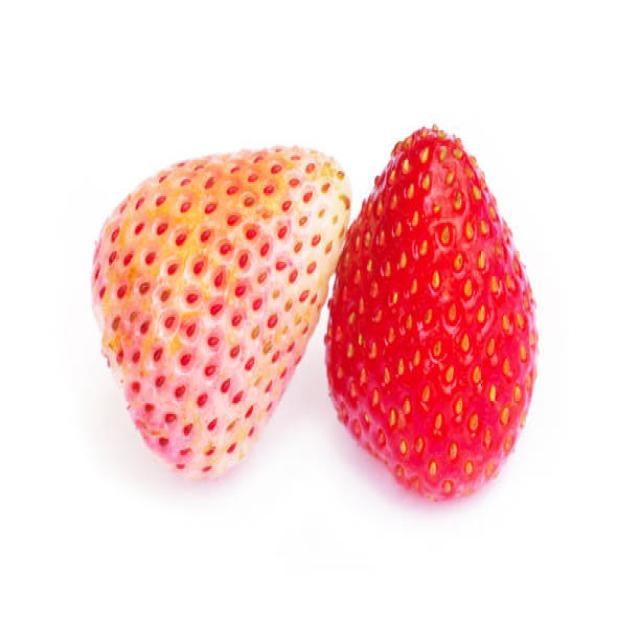Healthy Fruit: (91, 147, 352, 477), (325, 125, 537, 499)
